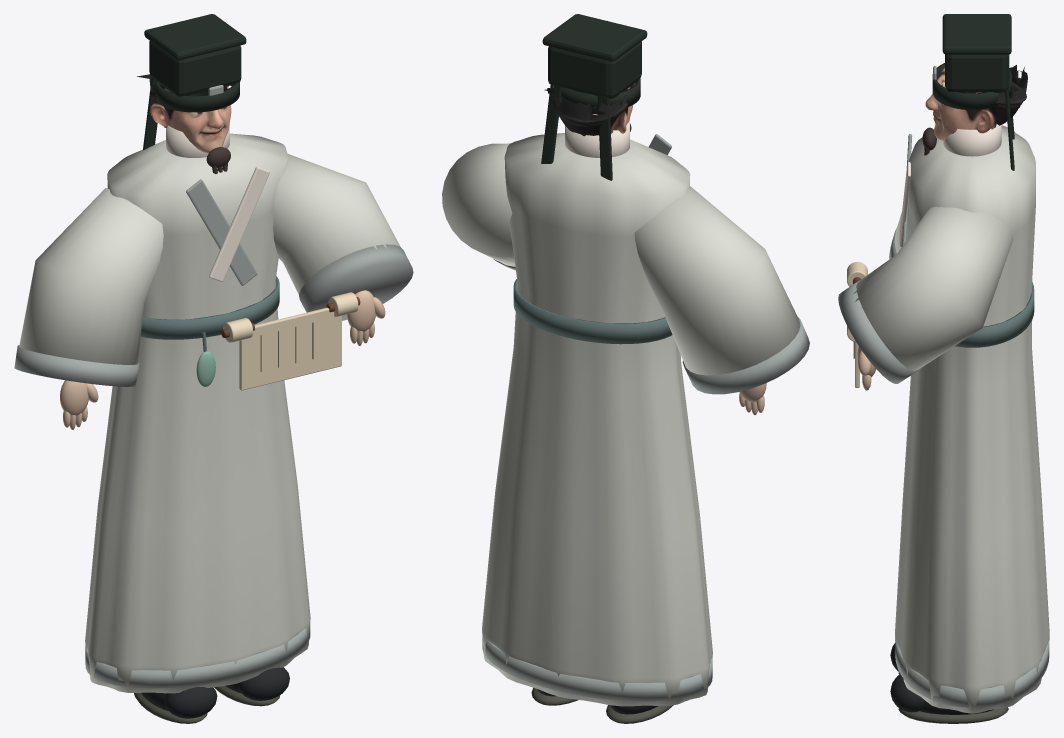
The model's file is scholar.glb.
3 renders of one model, left to right at view 1: azimuth 30°, elevation 25°; view 2: azimuth 150°, elevation 25°; view 3: azimuth 270°, elevation 25°, orthographic. The views are drawn at different scales.
Parts seen in each view (by area): view 1: scholar; view 2: scholar; view 3: scholar.
Part boxes in pixels (box(x1,y1,x2,y2)): scholar: box(14, 14, 413, 723); scholar: box(442, 14, 809, 723); scholar: box(838, 14, 1049, 723).
Bounding box in the file's own units: 1.02 × 1.82 × 0.5212.
Materials: 3 (3 with a texture image).
